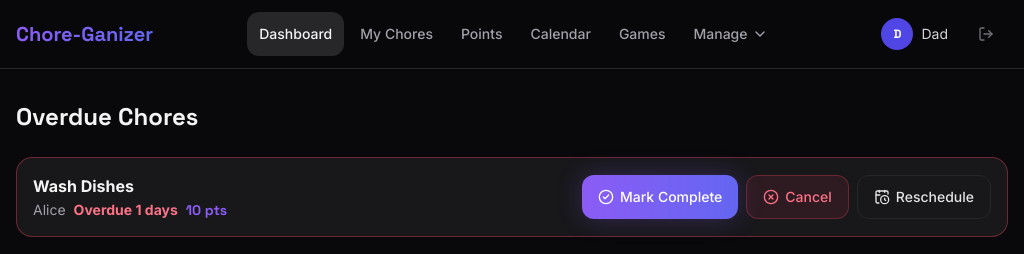
Test: OverduePage › shows an error toast when completing fails
Click the button "Mark Complete": (660, 197) [582,175,738,219]
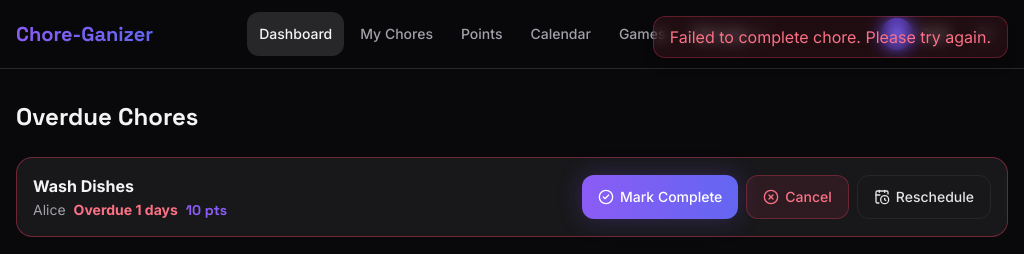
Result: the text "Failed to complete chore. Please try again." is shown at [653,16,1008,58]
